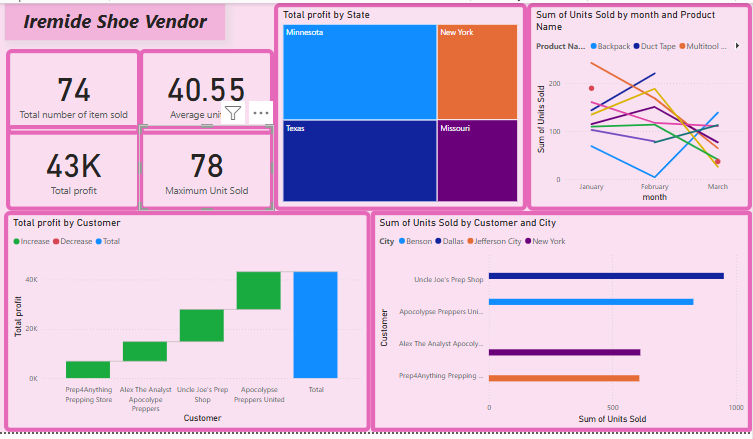

The dashboard page shown, as its layout file describes it:
{"tool":"powerbi","page":{"name":"Page 1","canvas":[1280,720],"ordinal":0},"visuals":[{"type":"textbox","box":[23.5,0,372.9,63.8],"z":0},{"type":"card","fields":{"Values":["Apocolypse Sales.Units Sold"]},"box":[26.9,77.3,226.8,144.5],"z":1000},{"type":"card","fields":{"Values":["Apocolypse Sales.Total profit"]},"box":[26.9,204.9,226.8,144.5],"z":2000},{"type":"card","fields":{"Values":["Apocolypse Sales.Units Sold"]},"box":[250.3,77.3,226.8,144.5],"z":3000},{"type":"card","fields":{"Values":["Apocolypse Sales.Units Sold"]},"box":[250.3,204.9,226.8,144.5],"z":4000},{"type":"waterfallChart","fields":{"Y":["Apocolypse Sales.Total profit"],"Category":["Apocolypse Sales.Customer"]},"box":[23.5,349.4,616.5,371.2],"z":5000},{"type":"clusteredBarChart","fields":{"Y":["Apocolypse Sales.Units Sold"],"Category":["Apocolypse Sales.Customer"],"Series":["Customer Information.City"]},"box":[640,349.4,640,371.2],"z":6000},{"type":"lineChart","fields":{"Category":["Apocolypse Sales.month"],"Y":["Apocolypse Sales.Units Sold"],"Series":["Apocolypse Store.Product Name"]},"box":[902,0,378,349.4],"z":7000},{"type":"treemap","fields":{"Values":["Apocolypse Sales.Total profit"],"Group":["Customer Information.State"]},"box":[477.1,0,425,349.4],"z":8000}]}

Visuals, with their boxes in screenshot pixels (x1, y1, x2, y2):
textbox: <box>4,0,229,38</box>
card - Apocolypse Sales.Units Sold: <box>6,46,143,133</box>
card - Apocolypse Sales.Total profit: <box>6,123,143,210</box>
card - Apocolypse Sales.Units Sold: <box>141,46,277,133</box>
card - Apocolypse Sales.Units Sold: <box>141,123,277,210</box>
waterfallChart - Apocolypse Sales.Total profit x Apocolypse Sales.Customer: <box>4,210,375,433</box>
clusteredBarChart - Apocolypse Sales.Units Sold x Apocolypse Sales.Customer: <box>375,210,752,433</box>
lineChart - Apocolypse Sales.month x Apocolypse Sales.Units Sold: <box>533,0,752,210</box>
treemap - Apocolypse Sales.Total profit x Customer Information.State: <box>277,0,533,210</box>
